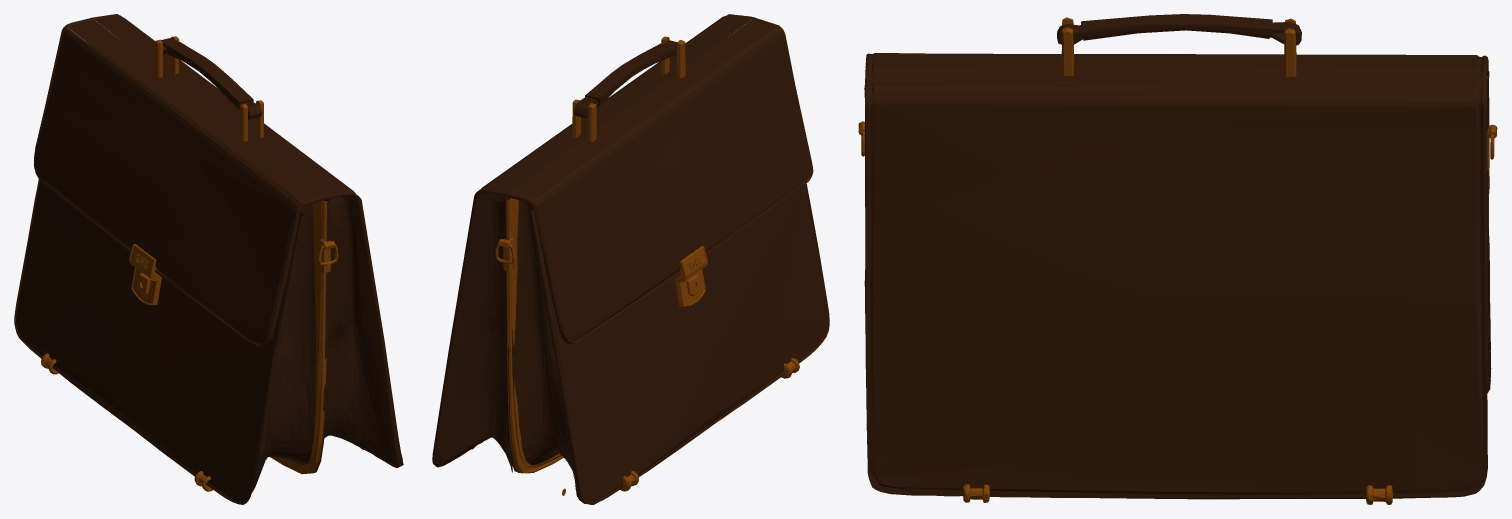
File: men_bag_brown2.obj
3 views of the same model, side by side, from view 1: azimuth 30°, elevation 25°; view 2: azimuth 150°, elevation 25°; view 3: azimuth 270°, elevation 25° (orthographic). The views are drawn at different scales.
Parts seen in each view (by area): view 1: Loft01.000; view 2: Loft01.000; view 3: Loft01.000.
Part boxes in pixels (x1,y1,x2,y2): Loft01.000: [14, 14, 403, 504]; Loft01.000: [432, 14, 829, 504]; Loft01.000: [858, 14, 1497, 504].
Size of the model in its own units: 0.0128 by 0.0248 by 0.0321.
